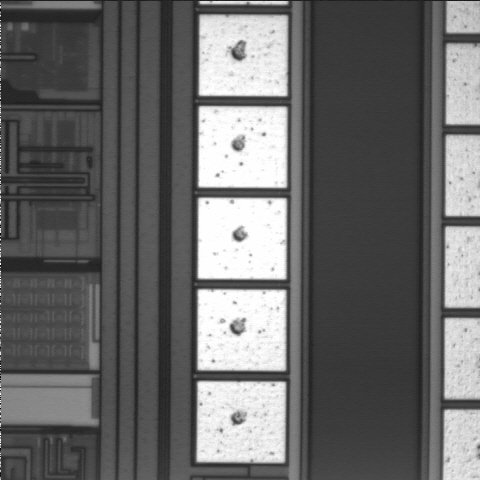pad: (198, 106, 287, 188), (197, 381, 286, 463), (198, 289, 286, 371), (199, 15, 288, 96), (198, 198, 287, 279)
